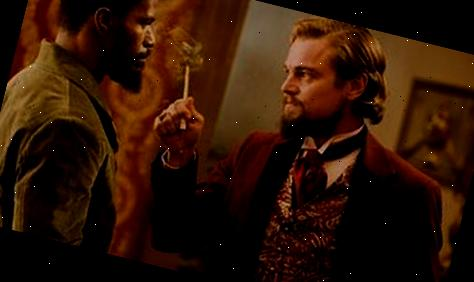smoke: (164, 22, 214, 75)
